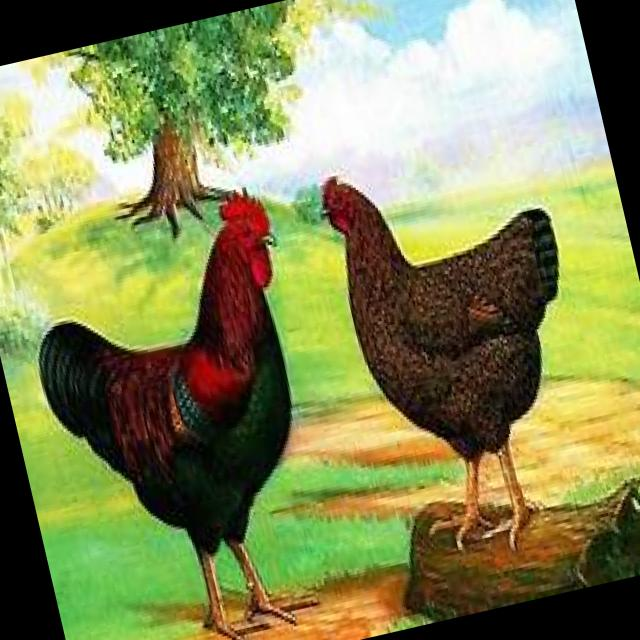animal: (8, 179, 366, 640), (311, 127, 624, 578)
